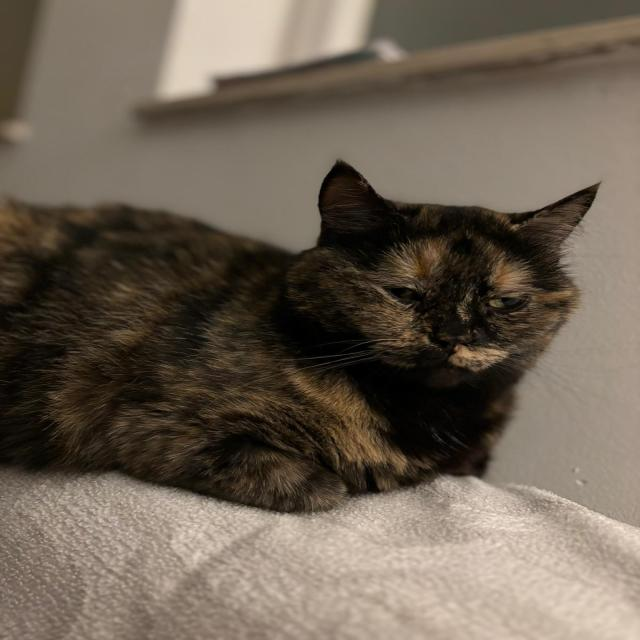authorized: (1, 157, 602, 514)
